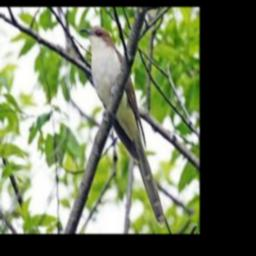Cuckoo: (79, 27, 164, 227)
